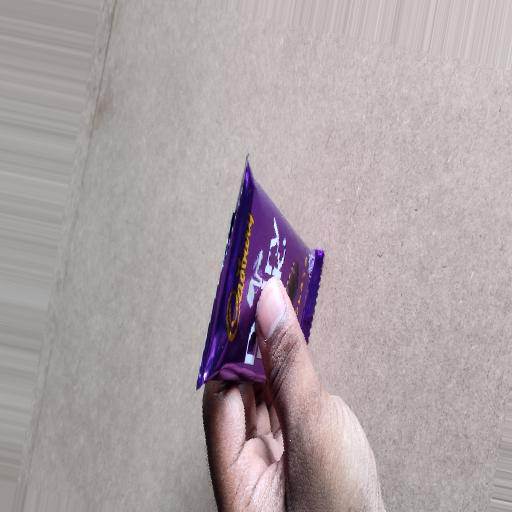Cadbury Dairy Milk Chocolate: (165, 130, 359, 433)
